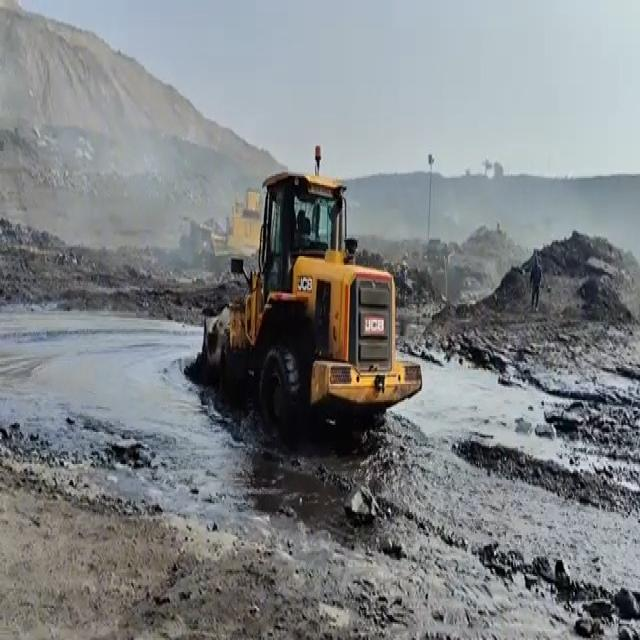buldozerpayloadergrader: (200, 168, 421, 454)
